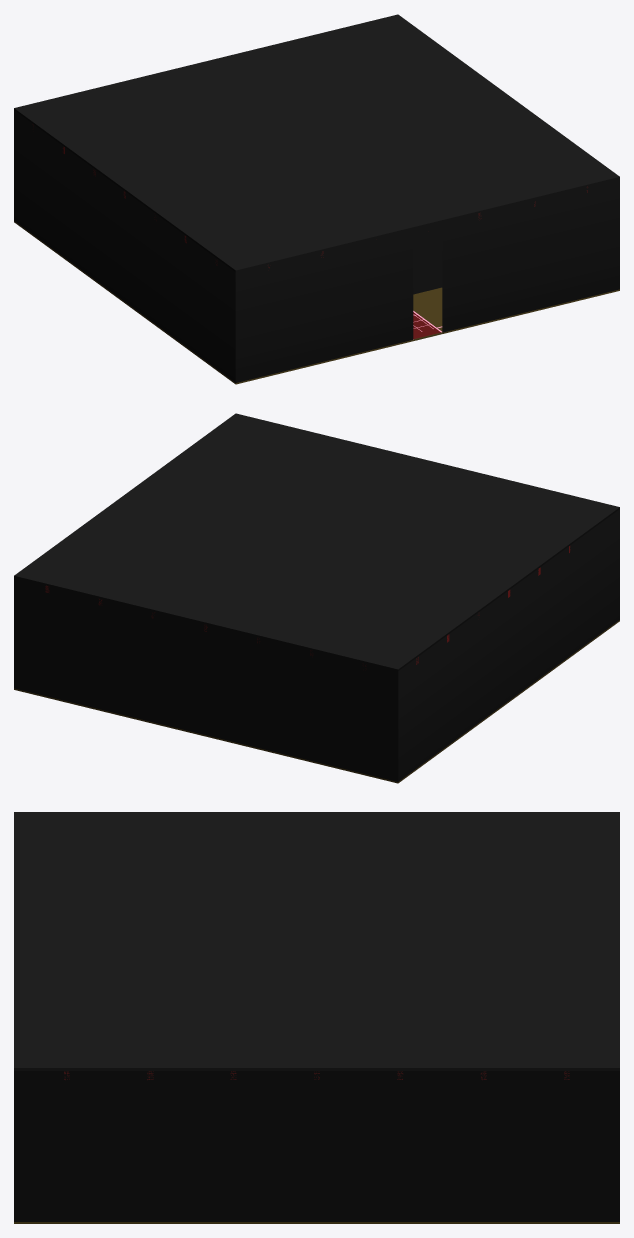
File: shaddai_hall_pikadon_v01.glb
3 views of the same model, one above another, from view 1: azimuth 30°, elevation 25°; view 2: azimuth 150°, elevation 25°; view 3: azimuth 270°, elevation 25° (orthographic). The views are drawn at different scales.
Visible parts, largest first — view 1: shaddai_hall_pikadon; view 2: shaddai_hall_pikadon; view 3: shaddai_hall_pikadon.
Part boxes in pixels (box(x1,y1,x2,y2)): shaddai_hall_pikadon: box(14, 14, 619, 384); shaddai_hall_pikadon: box(14, 413, 619, 783); shaddai_hall_pikadon: box(14, 812, 619, 1223).
Bounding box in the file's own units: 80 × 22.7 × 80.
